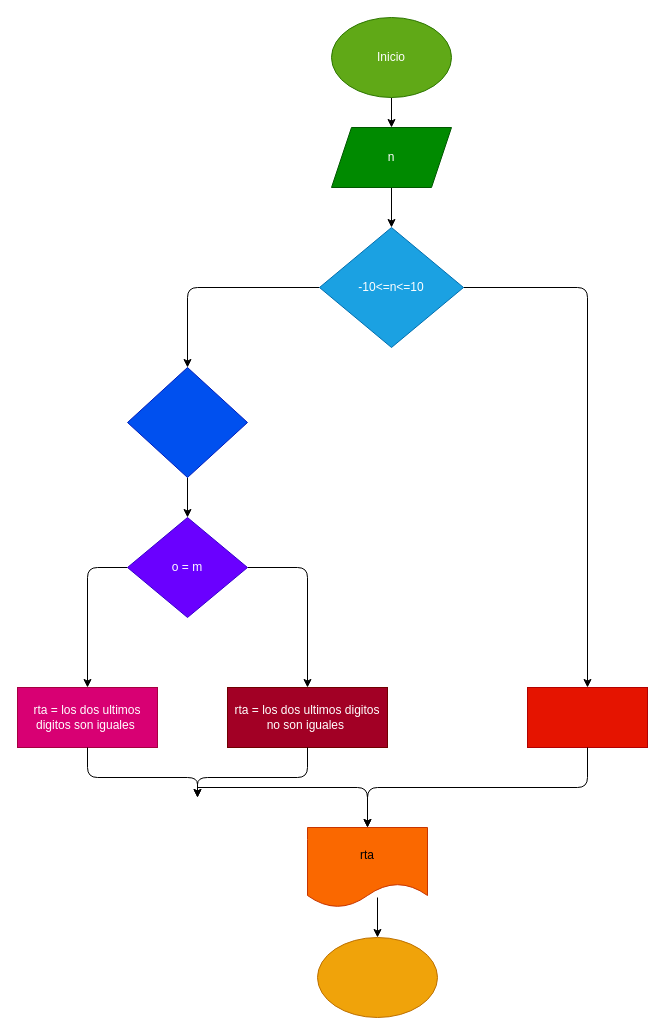
Image size: 665x1035. Some labels were removed from this diagram. The centre of each missing label's shape, as x and y in pixels:
"d = n % 100 o = d % 10 m = o // 10" goes at point (187, 422).
"El numero no tiene mas de dos digitos." goes at point (587, 717).
"fin" goes at point (377, 977).
